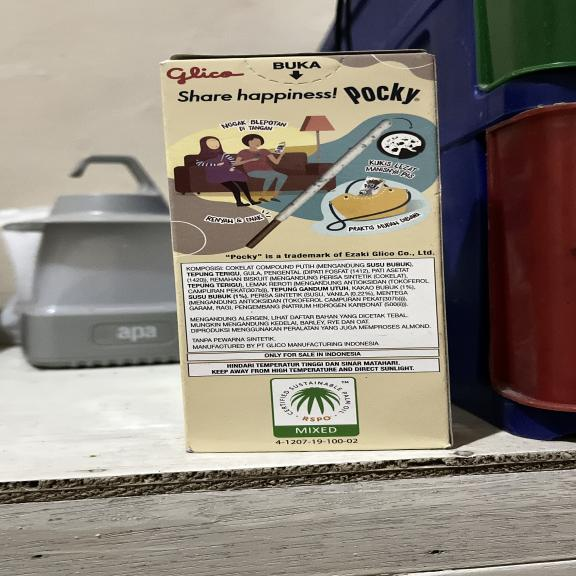Kertas: (157, 56, 455, 451)
